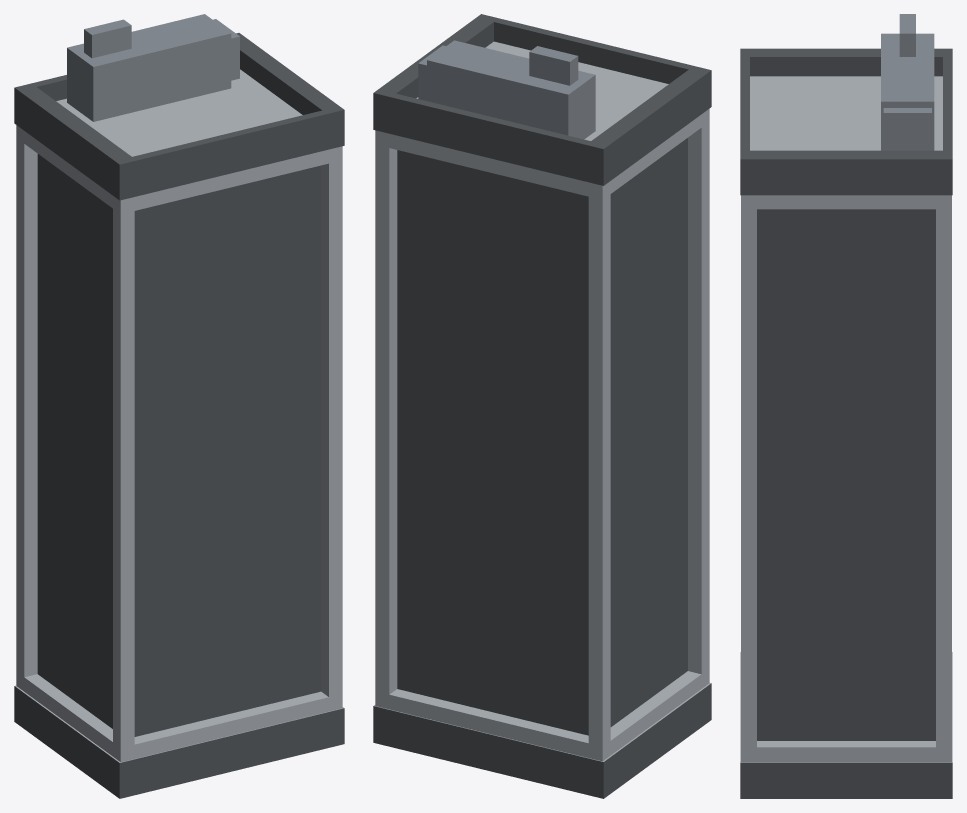
The model's file is talo10.fbx.
3 renders of one model, left to right at view 1: azimuth 30°, elevation 25°; view 2: azimuth 150°, elevation 25°; view 3: azimuth 270°, elevation 25°, orthographic. The views are drawn at different scales.
Parts seen in each view (by area): view 1: talo10; view 2: talo10; view 3: talo10.
Boxes of the visible parts, left/top/right/bottom form: talo10: left=14, top=14, right=344, bottom=798; talo10: left=373, top=14, right=711, bottom=798; talo10: left=740, top=14, right=952, bottom=798.
Bounding box in the file's own units: 188 × 554 × 153.
